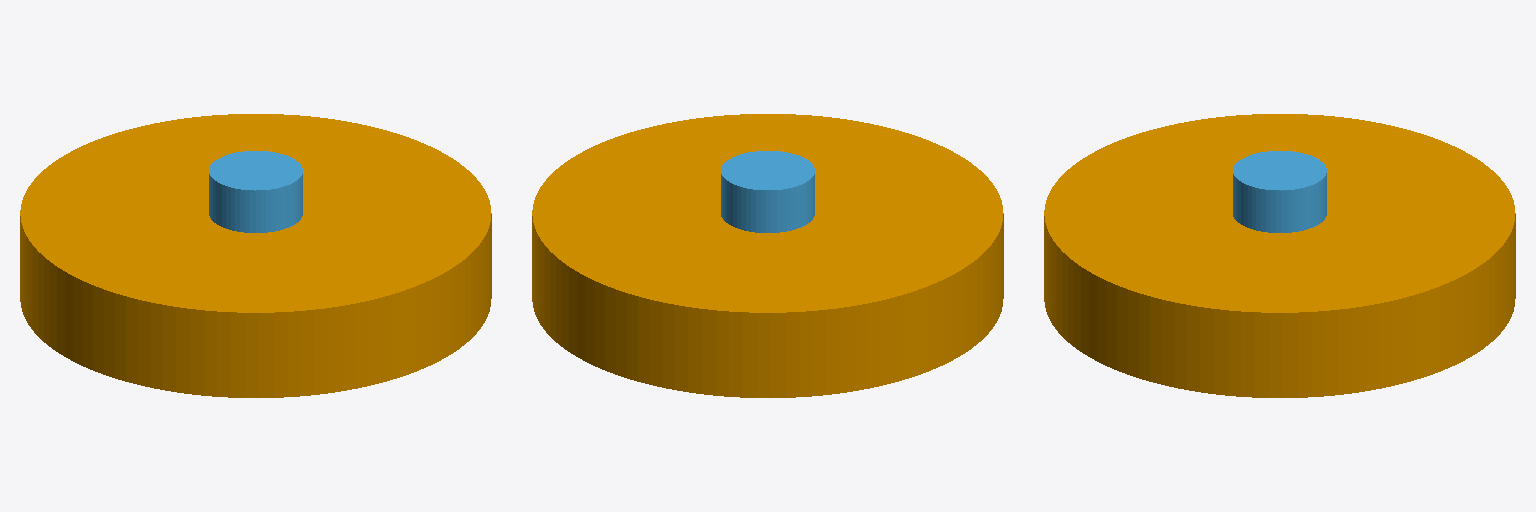
The robot description file, URDF, robot "revolute_roll_j":
<?xml version="1.0" ?>
<robot name="revolute_roll_j">

<link name="revolute_roll_j_base_link">
  <inertial>
    <origin xyz="-8.834874115176805e-19 1.0456780305240966e-12 0.001000000000000001" rpy="0 0 0"/>
    <mass value="0.001233075116533942"/>
    <inertia ixx="0.0" iyy="0.0" izz="0.0" ixy="-0.0" iyz="-0.0" ixz="-0.0"/>
  </inertial>
  <visual>
    <origin xyz="0 0 0" rpy="0 0 0"/>
    <geometry>
      <mesh filename="meshes/revolute_roll_j_base_link.stl" scale="0.001 0.001 0.001"/>
    </geometry>
    <material name="silver"/>
  </visual>
  <collision>
    <origin xyz="0 0 0" rpy="0 0 0"/>
    <geometry>
      <mesh filename="meshes/revolute_roll_j_base_link.stl" scale="0.001 0.001 0.001"/>
    </geometry>
  </collision>
</link>

<link name="revolute_roll_j_link_1">
  <inertial>
    <origin xyz="2.089650619862512e-13 8.477091992890196e-15 0.0005" rpy="0 0 0"/>
    <mass value="2.466150233067882e-05"/>
    <inertia ixx="0.0" iyy="0.0" izz="0.0" ixy="0.0" iyz="-0.0" ixz="0.0"/>
  </inertial>
  <visual>
    <origin xyz="-0.0 -0.0 -0.002" rpy="0 0 0"/>
    <geometry>
      <mesh filename="meshes/revolute_roll_j_link_1.stl" scale="0.001 0.001 0.001"/>
    </geometry>
    <material name="silver"/>
  </visual>
  <collision>
    <origin xyz="-0.0 -0.0 -0.002" rpy="0 0 0"/>
    <geometry>
      <mesh filename="meshes/revolute_roll_j_link_1.stl" scale="0.001 0.001 0.001"/>
    </geometry>
  </collision>
</link>

<link name="revolute_roll_j_APP_1">
  <inertial>
    <origin xyz="3.7077246103291944e-20 2.915969213287113e-19 -1.6653345369377347e-18" rpy="0 0 0"/>
    <mass value="4.110250388446646e-06"/>
    <inertia ixx="0.0" iyy="0.0" izz="0.0" ixy="0.0" iyz="0.0" ixz="0.0"/>
  </inertial>
  
  
</link>

<link name="revolute_roll_j_APC_1">
  <inertial>
    <origin xyz="1.1644688946060454e-18 1.0161167719761161e-19 4.336808689942018e-19" rpy="0 0 0"/>
    <mass value="4.110250388446646e-06"/>
    <inertia ixx="0.0" iyy="0.0" izz="0.0" ixy="-0.0" iyz="-0.0" ixz="0.0"/>
  </inertial>
  
  
</link>

<joint name="Revolute 1" type="continuous">
  <origin xyz="0.0 0.0 0.002" rpy="0 0 0"/>
  <parent link="revolute_roll_j_base_link"/>
  <child link="revolute_roll_j_link_1"/>
  <axis xyz="0.0 0.0 1.0"/>
</joint>

<joint name="Rigid 2" type="fixed">
  <origin xyz="0.0 0.0 0.0" rpy="0 0 0"/>
  <parent link="revolute_roll_j_base_link"/>
  <child link="revolute_roll_j_APP_1"/>
</joint>

<joint name="Rigid 3" type="fixed">
  <origin xyz="0.0 0.0 0.001" rpy="0 0 0"/>
  <parent link="revolute_roll_j_link_1"/>
  <child link="revolute_roll_j_APC_1"/>
</joint>

</robot>

--- What the picture shows (computed from the rendered views, not written in the file) ---
The picture shows the robot from 3 angles, left to right: view 1: azimuth 30°, elevation 25°; view 2: azimuth 150°, elevation 25°; view 3: azimuth 270°, elevation 25°; orthographic projection.
Robot: revolute_roll_j — 4 links, 3 joints (1 continuous, 2 fixed); root link revolute_roll_j_base_link; default pose: all joints at 0.
Links seen in each view (by area): view 1: revolute_roll_j_base_link, revolute_roll_j_link_1; view 2: revolute_roll_j_base_link, revolute_roll_j_link_1; view 3: revolute_roll_j_base_link, revolute_roll_j_link_1.
Boxes of the visible links, x1,y1,x2,y2 form: revolute_roll_j_base_link: (20, 114, 491, 397); revolute_roll_j_link_1: (209, 151, 302, 232); revolute_roll_j_base_link: (532, 114, 1003, 397); revolute_roll_j_link_1: (721, 151, 814, 232); revolute_roll_j_base_link: (1044, 114, 1515, 397); revolute_roll_j_link_1: (1233, 151, 1326, 232).
Size in the robot's own frame: 0.01 by 0.01 by 0.003 metres.
Meshes: 2 distinct files referenced, 2 mesh visuals loaded (2 binary STL).